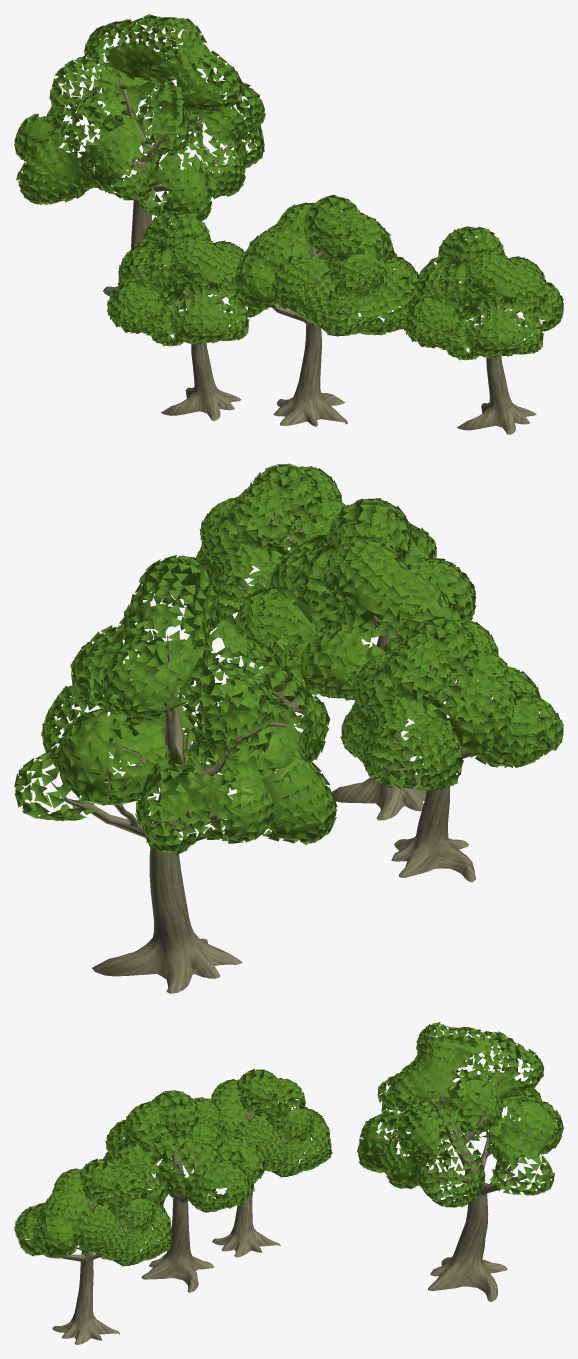
The model's file is SM_ENV_LKNVLD_TreeSet_J.FBX.
The picture shows the model from 3 angles, top to bottom: view 1: azimuth 30°, elevation 25°; view 2: azimuth 150°, elevation 25°; view 3: azimuth 270°, elevation 25°; orthographic projection. The views are drawn at different scales.
Visible parts, largest first — view 1: SM_ENV_LKNVLD_TreeSet_J; view 2: SM_ENV_LKNVLD_TreeSet_J; view 3: SM_ENV_LKNVLD_TreeSet_J.
Part boxes in pixels (x1,y1,x2,y2): SM_ENV_LKNVLD_TreeSet_J: (14, 14, 563, 434); SM_ENV_LKNVLD_TreeSet_J: (14, 463, 563, 993); SM_ENV_LKNVLD_TreeSet_J: (14, 1022, 563, 1344).
Size of the model in its own units: 1728 by 1403 by 2668.
